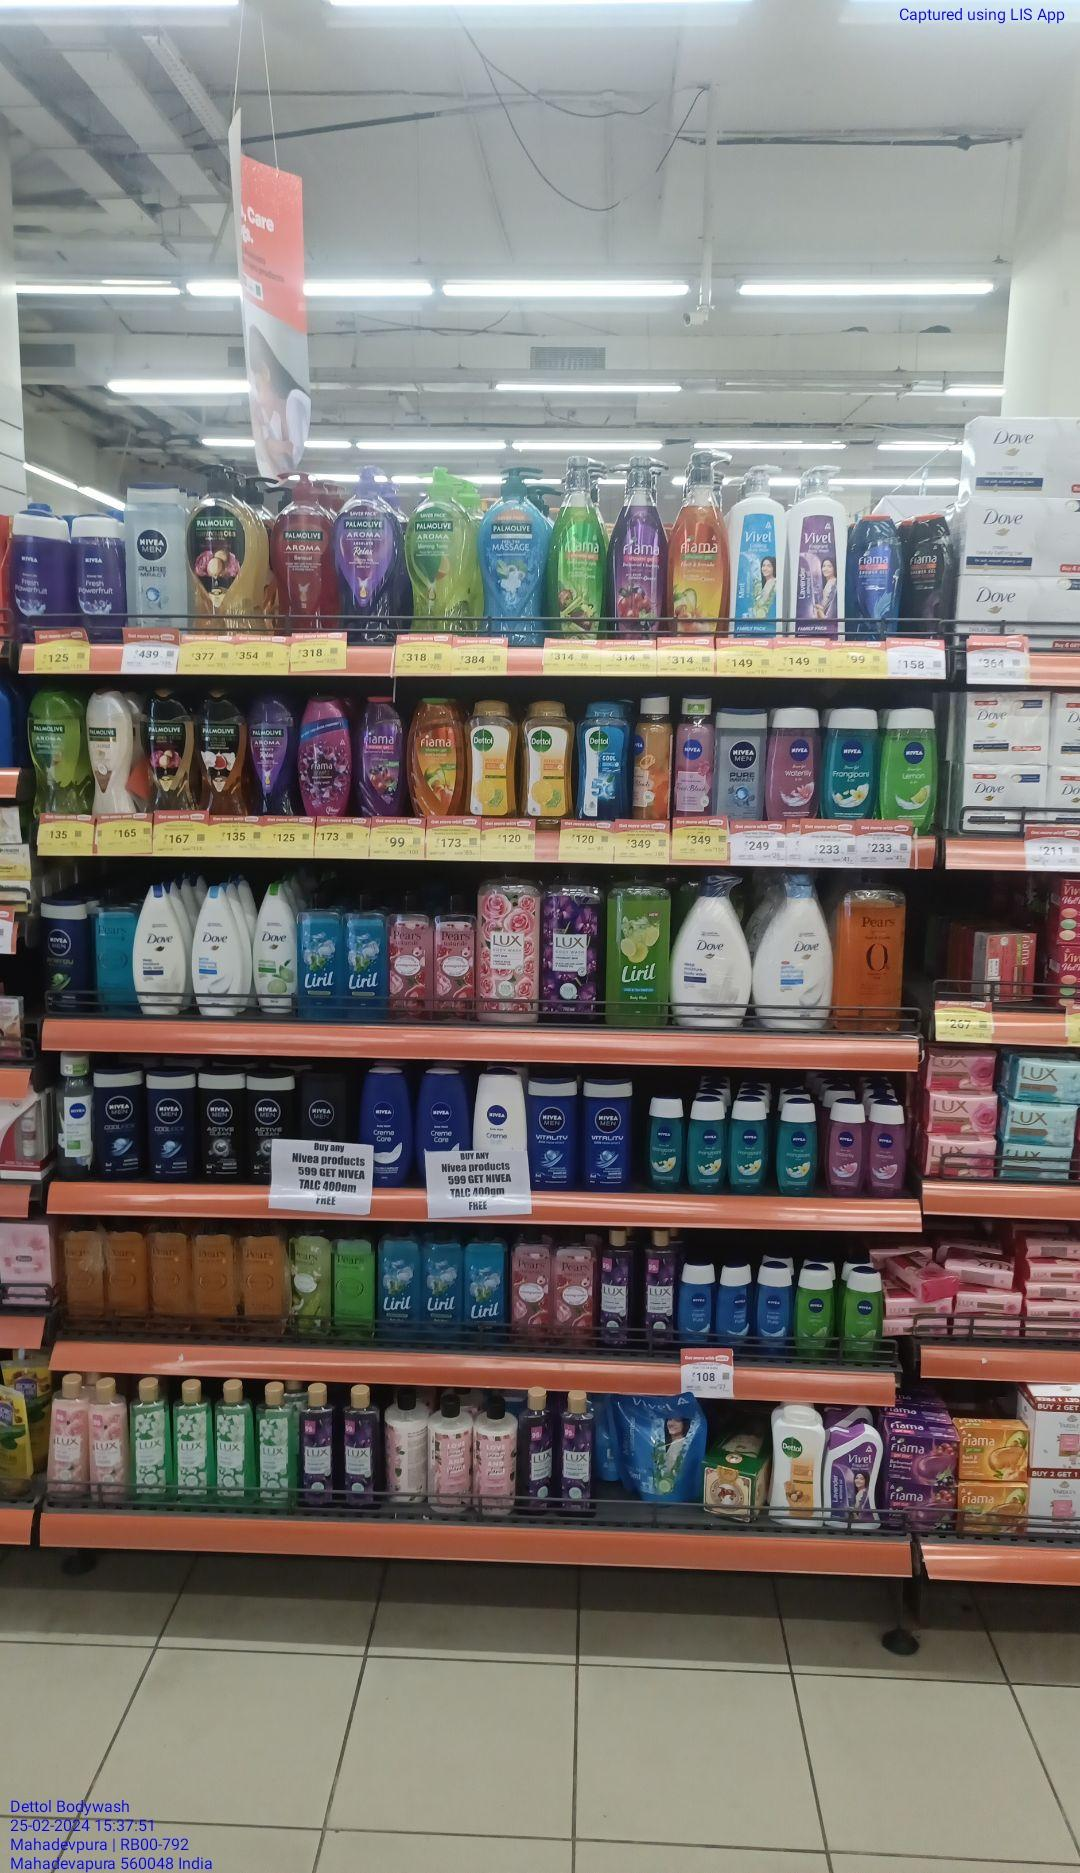Dettol_Bodywash_Cool: (580, 700, 627, 818)
Dettol_Bodywash_Refresh: (525, 700, 572, 818), (469, 701, 517, 817)
Dettol_Nourish_Body_Wash_250ML: (769, 1409, 824, 1528)
Dove_Deep_Moisture_Body_Wash_250ML: (135, 884, 185, 1019)
Dove_Gentle_Exfoliating_Body_Wash_250ML: (190, 888, 247, 1020)
Dove_Refreshing_Body_Wash_250ML: (253, 885, 297, 1014)
Fiama_Shower_Gel_Peach_and_Avocado_250ML: (409, 695, 462, 816)
Liril_Cooling_Mint_Body_Wash_250ML: (346, 894, 390, 1018), (465, 1230, 510, 1347), (301, 890, 342, 1016), (423, 1231, 464, 1346), (378, 1230, 418, 1340)
Lux_Black_Orchid_Scent_and_Juniper_Oil_Body_Wash_245ML: (562, 1391, 600, 1521), (598, 1230, 635, 1348), (301, 1384, 336, 1510), (342, 1389, 379, 1505), (645, 1230, 680, 1348), (525, 1391, 555, 1518)
Lux_Body_Wash_Skin_Detox_Freesia_Scent_and_Alove_Vera_245ML: (216, 1383, 256, 1510), (257, 1385, 296, 1514), (134, 1382, 172, 1504), (177, 1383, 210, 1508)
Nivea_Shower_Gel_Frangipani_and_Oil_250ML: (824, 708, 877, 819)
Nivea_Shower_Gel_Lemon_and_Oil_250ML: (885, 709, 939, 832)
Nivea_Shower_Gel_Waterlily_and_Oil_250ML: (771, 709, 818, 818)
Palmolive_Aroma_Morning_Tonic_Shower_Gel_250ML: (28, 691, 77, 819)
Palmolive_Aroma_Relax_250ML: (251, 693, 296, 816)
Palmolive_Coconut_Joy_Exfoliating_Body_Wash_250ML: (86, 690, 132, 816)
Palmolive_Luminous_Oils_Invigorating_Macadamia_Oil_With_Peony_250ML: (145, 690, 195, 814)
Palmolive_Luminous_Oils_With_White_Orchid_Shower_Gel_250ML: (199, 688, 248, 817)
Pears_Naturale_Aloe_Vera_Body_Wash_250ML: (294, 1227, 330, 1338)
Pears_Pure_Glycerin_and_Lemon_Flower_Extracts_Body_Wash_250ML: (337, 1230, 375, 1338)
Pears_Pure_Glycerin_and_Mint_Extracts_Body_Wash_250ML: (94, 890, 131, 1007)
